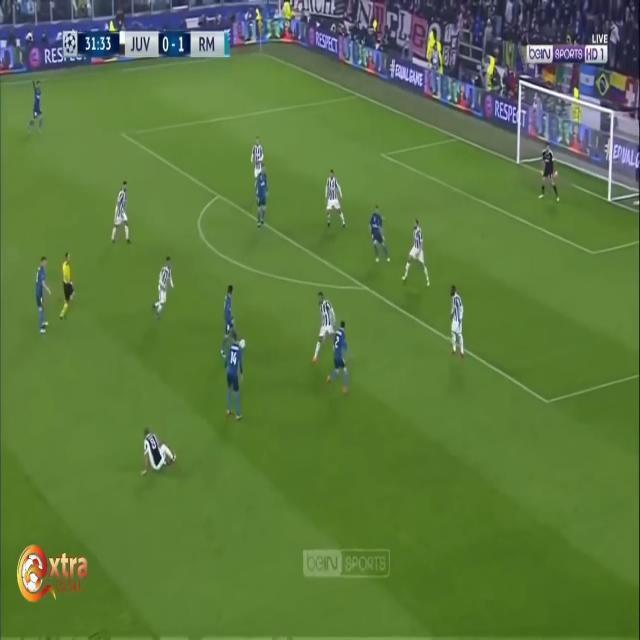ball: (239, 333, 248, 350)
goalkeeper: (536, 138, 564, 208)
player: (224, 333, 245, 421), (141, 422, 171, 482), (404, 214, 428, 288), (330, 319, 352, 397), (447, 282, 467, 364), (33, 253, 53, 335), (324, 167, 347, 232), (368, 202, 390, 267), (316, 293, 335, 363), (155, 254, 176, 317), (114, 180, 133, 247), (254, 166, 271, 229), (223, 283, 239, 344), (250, 138, 265, 188), (31, 81, 44, 130)
referee: (59, 249, 76, 326)
